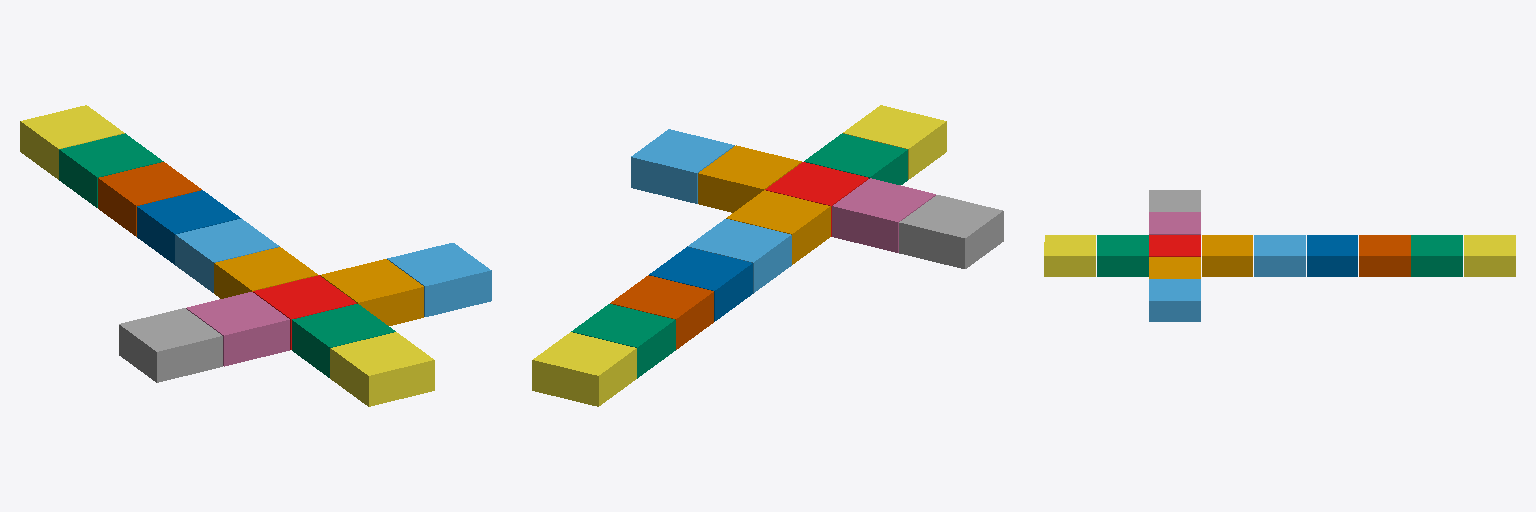
robot.urdf — rob:
<?xml version='1.0' encoding='UTF-8'?>
<robot name="rob">
  <link name="set1_arm1">
    <inertial>
      <origin xyz="0.0 0.34 0.0" rpy="0.0 0.0 0.0"/>
      <mass value="1.0"/>
      <inertia ixx="0.0" ixy="0.0" ixz="0.0" iyy="0.0" iyz="0.0" izz="0.0"/>
    </inertial>
    <visual>
      <geometry>
        <box size="0.67 0.67 0.3 "/>
      </geometry>
      <origin xyz="0.0 0.34 0.0" rpy="0.0 0.0 0.0"/>
    </visual>
    <collision>
      <geometry>
        <box size="0.67 0.67 0.3 "/>
      </geometry>
      <origin xyz="0.0 0.34 0.0" rpy="0.0 0.0 0.0"/>
    </collision>
  </link>
  <link name="set1_arm2">
    <inertial>
      <origin xyz="0.0 0.34 0.0" rpy="0.0 0.0 0.0"/>
      <mass value="1.0"/>
      <inertia ixx="0.0" ixy="0.0" ixz="0.0" iyy="0.0" iyz="0.0" izz="0.0"/>
    </inertial>
    <visual>
      <geometry>
        <box size="0.67 0.67 0.3 "/>
      </geometry>
      <origin xyz="0.0 0.34 0.0" rpy="0.0 0.0 0.0"/>
    </visual>
    <collision>
      <geometry>
        <box size="0.67 0.67 0.3 "/>
      </geometry>
      <origin xyz="0.0 0.34 0.0" rpy="0.0 0.0 0.0"/>
    </collision>
  </link>
  <link name="set2_arm1">
    <inertial>
      <origin xyz="0.0 0.34 0.0" rpy="0.0 0.0 0.0"/>
      <mass value="1.0"/>
      <inertia ixx="0.0" ixy="0.0" ixz="0.0" iyy="0.0" iyz="0.0" izz="0.0"/>
    </inertial>
    <visual>
      <geometry>
        <box size="0.67 0.67 0.3 "/>
      </geometry>
      <origin xyz="0.0 0.34 0.0" rpy="0.0 0.0 0.0"/>
    </visual>
    <collision>
      <geometry>
        <box size="0.67 0.67 0.3 "/>
      </geometry>
      <origin xyz="0.0 0.34 0.0" rpy="0.0 0.0 0.0"/>
    </collision>
  </link>
  <link name="set2_arm2">
    <inertial>
      <origin xyz="0.0 0.34 0.0" rpy="0.0 0.0 0.0"/>
      <mass value="1.0"/>
      <inertia ixx="0.0" ixy="0.0" ixz="0.0" iyy="0.0" iyz="0.0" izz="0.0"/>
    </inertial>
    <visual>
      <geometry>
        <box size="0.67 0.67 0.3 "/>
      </geometry>
      <origin xyz="0.0 0.34 0.0" rpy="0.0 0.0 0.0"/>
    </visual>
    <collision>
      <geometry>
        <box size="0.67 0.67 0.3 "/>
      </geometry>
      <origin xyz="0.0 0.34 0.0" rpy="0.0 0.0 0.0"/>
    </collision>
  </link>
  <link name="set3_arm1">
    <inertial>
      <origin xyz="0.0 0.34 0.0" rpy="0.0 0.0 0.0"/>
      <mass value="1.0"/>
      <inertia ixx="0.0" ixy="0.0" ixz="0.0" iyy="0.0" iyz="0.0" izz="0.0"/>
    </inertial>
    <visual>
      <geometry>
        <box size="0.67 0.67 0.3 "/>
      </geometry>
      <origin xyz="0.0 0.34 0.0" rpy="0.0 0.0 0.0"/>
    </visual>
    <collision>
      <geometry>
        <box size="0.67 0.67 0.3 "/>
      </geometry>
      <origin xyz="0.0 0.34 0.0" rpy="0.0 0.0 0.0"/>
    </collision>
  </link>
  <link name="set3_arm2">
    <inertial>
      <origin xyz="0.0 0.34 0.0" rpy="0.0 0.0 0.0"/>
      <mass value="1.0"/>
      <inertia ixx="0.0" ixy="0.0" ixz="0.0" iyy="0.0" iyz="0.0" izz="0.0"/>
    </inertial>
    <visual>
      <geometry>
        <box size="0.67 0.67 0.3 "/>
      </geometry>
      <origin xyz="0.0 0.34 0.0" rpy="0.0 0.0 0.0"/>
    </visual>
    <collision>
      <geometry>
        <box size="0.67 0.67 0.3 "/>
      </geometry>
      <origin xyz="0.0 0.34 0.0" rpy="0.0 0.0 0.0"/>
    </collision>
  </link>
  <link name="set4_arm1">
    <inertial>
      <origin xyz="0.0 0.34 0.0" rpy="0.0 0.0 0.0"/>
      <mass value="1.0"/>
      <inertia ixx="0.0" ixy="0.0" ixz="0.0" iyy="0.0" iyz="0.0" izz="0.0"/>
    </inertial>
    <visual>
      <geometry>
        <box size="0.67 0.67 0.3 "/>
      </geometry>
      <origin xyz="0.0 0.34 0.0" rpy="0.0 0.0 0.0"/>
    </visual>
    <collision>
      <geometry>
        <box size="0.67 0.67 0.3 "/>
      </geometry>
      <origin xyz="0.0 0.34 0.0" rpy="0.0 0.0 0.0"/>
    </collision>
  </link>
  <link name="set4_arm2">
    <inertial>
      <origin xyz="0.0 0.34 0.0" rpy="0.0 0.0 0.0"/>
      <mass value="1.0"/>
      <inertia ixx="0.0" ixy="0.0" ixz="0.0" iyy="0.0" iyz="0.0" izz="0.0"/>
    </inertial>
    <visual>
      <geometry>
        <box size="0.67 0.67 0.3 "/>
      </geometry>
      <origin xyz="0.0 0.34 0.0" rpy="0.0 0.0 0.0"/>
    </visual>
    <collision>
      <geometry>
        <box size="0.67 0.67 0.3 "/>
      </geometry>
      <origin xyz="0.0 0.34 0.0" rpy="0.0 0.0 0.0"/>
    </collision>
  </link>
  <link name="set5_arm1">
    <inertial>
      <origin xyz="0.0 0.34 0.0" rpy="0.0 0.0 0.0"/>
      <mass value="1.0"/>
      <inertia ixx="0.0" ixy="0.0" ixz="0.0" iyy="0.0" iyz="0.0" izz="0.0"/>
    </inertial>
    <visual>
      <geometry>
        <box size="0.67 0.67 0.3 "/>
      </geometry>
      <origin xyz="0.0 0.34 0.0" rpy="0.0 0.0 0.0"/>
    </visual>
    <collision>
      <geometry>
        <box size="0.67 0.67 0.3 "/>
      </geometry>
      <origin xyz="0.0 0.34 0.0" rpy="0.0 0.0 0.0"/>
    </collision>
  </link>
  <link name="set5_arm2">
    <inertial>
      <origin xyz="0.0 0.34 0.0" rpy="0.0 0.0 0.0"/>
      <mass value="1.0"/>
      <inertia ixx="0.0" ixy="0.0" ixz="0.0" iyy="0.0" iyz="0.0" izz="0.0"/>
    </inertial>
    <visual>
      <geometry>
        <box size="0.67 0.67 0.3 "/>
      </geometry>
      <origin xyz="0.0 0.34 0.0" rpy="0.0 0.0 0.0"/>
    </visual>
    <collision>
      <geometry>
        <box size="0.67 0.67 0.3 "/>
      </geometry>
      <origin xyz="0.0 0.34 0.0" rpy="0.0 0.0 0.0"/>
    </collision>
  </link>
  <link name="set6_arm1">
    <inertial>
      <origin xyz="0.0 0.34 0.0" rpy="0.0 0.0 0.0"/>
      <mass value="1.0"/>
      <inertia ixx="0.0" ixy="0.0" ixz="0.0" iyy="0.0" iyz="0.0" izz="0.0"/>
    </inertial>
    <visual>
      <geometry>
        <box size="0.67 0.67 0.3 "/>
      </geometry>
      <origin xyz="0.0 0.34 0.0" rpy="0.0 0.0 0.0"/>
    </visual>
    <collision>
      <geometry>
        <box size="0.67 0.67 0.3 "/>
      </geometry>
      <origin xyz="0.0 0.34 0.0" rpy="0.0 0.0 0.0"/>
    </collision>
  </link>
  <link name="set6_arm2">
    <inertial>
      <origin xyz="0.0 0.34 0.0" rpy="0.0 0.0 0.0"/>
      <mass value="1.0"/>
      <inertia ixx="0.0" ixy="0.0" ixz="0.0" iyy="0.0" iyz="0.0" izz="0.0"/>
    </inertial>
    <visual>
      <geometry>
        <box size="0.67 0.67 0.3 "/>
      </geometry>
      <origin xyz="0.0 0.34 0.0" rpy="0.0 0.0 0.0"/>
    </visual>
    <collision>
      <geometry>
        <box size="0.67 0.67 0.3 "/>
      </geometry>
      <origin xyz="0.0 0.34 0.0" rpy="0.0 0.0 0.0"/>
    </collision>
  </link>
  <link name="base_link">
    <inertial>
      <origin xyz="0.0 0.0 0.0" rpy="0.0 -0.0 0.0"/>
      <mass value="1.0"/>
      <inertia ixx="1.0" ixy="0.0" ixz="0.0" iyy="1.0" iyz="0.0" izz="1.0"/>
    </inertial>
    <visual>
      <geometry>
        <box size="0.67 0.67 0.3 "/>
      </geometry>
      <material name="red"/>
      <origin xyz="0.0 0.0 0.0" rpy="0.0 -0.0 0.0"/>
    </visual>
    <collision>
      <geometry>
        <box size="0.67 0.67 0.3 "/>
      </geometry>
      <origin xyz="0.0 0.0 0.0" rpy="0.0 0.0 0.0"/>
    </collision>
  </link>
  <joint name="set1_jointBase" type="fixed">
    <dynamics damping="0.0" friction="10.0"/>
    <limit effort="1.57" velocity="1.57" lower="-1.57" upper="1.57"/>
    <parent link="base_link"/>
    <child link="set1_arm1"/>
    <axis xyz="1. 0. 0."/>
    <origin xyz="0.0 0.34 0.0" rpy="0.0 0.0 0.0"/>
  </joint>
  <joint name="set1_joint1" type="revolute">
    <dynamics damping="0.0" friction="10.0"/>
    <limit effort="1.57" velocity="1.57" lower="-1.57" upper="1.57"/>
    <parent link="set1_arm1"/>
    <child link="set1_arm2"/>
    <axis xyz="1. 0. 0."/>
    <origin xyz="0.0 0.68 0.0" rpy="0.0 0.0 0.0"/>
  </joint>
  <joint name="set2_jointBase" type="fixed">
    <dynamics damping="0.0" friction="10.0"/>
    <limit effort="1.57" velocity="1.57" lower="-1.57" upper="1.57"/>
    <parent link="base_link"/>
    <child link="set2_arm1"/>
    <axis xyz="1. 0. 0."/>
    <origin xyz="0.0 -0.34 0.0" rpy="0.0 0.0 3.141"/>
  </joint>
  <joint name="set2_joint1" type="revolute">
    <dynamics damping="0.0" friction="10.0"/>
    <limit effort="1.57" velocity="1.57" lower="-1.57" upper="1.57"/>
    <parent link="set2_arm1"/>
    <child link="set2_arm2"/>
    <axis xyz="1. 0. 0."/>
    <origin xyz="0.0 0.68 0.0" rpy="0.0 0.0 0.0"/>
  </joint>
  <joint name="set3_jointBase" type="fixed">
    <dynamics damping="0.0" friction="10.0"/>
    <limit effort="1.57" velocity="1.57" lower="-1.57" upper="1.57"/>
    <parent link="set1_arm2"/>
    <child link="set3_arm1"/>
    <axis xyz="1. 0. 0."/>
    <origin xyz="0.0 0.68 0.0" rpy="0.0 0.0 0.0"/>
  </joint>
  <joint name="set3_joint1" type="revolute">
    <dynamics damping="0.0" friction="10.0"/>
    <limit effort="1.57" velocity="1.57" lower="-1.57" upper="1.57"/>
    <parent link="set3_arm1"/>
    <child link="set3_arm2"/>
    <axis xyz="1. 0. 0."/>
    <origin xyz="0.0 0.68 0.0" rpy="0.0 0.0 0.0"/>
  </joint>
  <joint name="set4_jointBase" type="fixed">
    <dynamics damping="0.0" friction="10.0"/>
    <limit effort="1.57" velocity="1.57" lower="-1.57" upper="1.57"/>
    <parent link="base_link"/>
    <child link="set4_arm1"/>
    <axis xyz="1. 0. 0."/>
    <origin xyz="-0.34 0.0 0.0" rpy="0.0 0.0 1.57"/>
  </joint>
  <joint name="set4_joint1" type="revolute">
    <dynamics damping="0.0" friction="10.0"/>
    <limit effort="1.57" velocity="1.57" lower="-1.57" upper="1.57"/>
    <parent link="set4_arm1"/>
    <child link="set4_arm2"/>
    <axis xyz="1. 0. 0."/>
    <origin xyz="0.0 0.68 0.0" rpy="0.0 0.0 0.0"/>
  </joint>
  <joint name="set5_jointBase" type="fixed">
    <dynamics damping="0.0" friction="10.0"/>
    <limit effort="1.57" velocity="1.57" lower="-1.57" upper="1.57"/>
    <parent link="base_link"/>
    <child link="set5_arm1"/>
    <axis xyz="1. 0. 0."/>
    <origin xyz="0.34 0.0 0.0" rpy="0.0 0.0 -1.57"/>
  </joint>
  <joint name="set5_joint1" type="revolute">
    <dynamics damping="0.0" friction="10.0"/>
    <limit effort="1.57" velocity="1.57" lower="-1.57" upper="1.57"/>
    <parent link="set5_arm1"/>
    <child link="set5_arm2"/>
    <axis xyz="1. 0. 0."/>
    <origin xyz="0.0 0.68 0.0" rpy="0.0 0.0 0.0"/>
  </joint>
  <joint name="set6_jointBase" type="fixed">
    <dynamics damping="0.0" friction="10.0"/>
    <limit effort="1.57" velocity="1.57" lower="-1.57" upper="1.57"/>
    <parent link="set3_arm2"/>
    <child link="set6_arm1"/>
    <axis xyz="1. 0. 0."/>
    <origin xyz="0.0 0.68 0.0" rpy="0.0 0.0 0.0"/>
  </joint>
  <joint name="set6_joint1" type="revolute">
    <dynamics damping="0.0" friction="10.0"/>
    <limit effort="1.57" velocity="1.57" lower="-1.57" upper="1.57"/>
    <parent link="set6_arm1"/>
    <child link="set6_arm2"/>
    <axis xyz="1. 0. 0."/>
    <origin xyz="0.0 0.68 0.0" rpy="0.0 0.0 0.0"/>
  </joint>
  <material name="red">
    <color rgba="0.969 0.129 0.122 1.   "/>
  </material>
</robot>

--- What the picture shows (computed from the rendered views, not written in the file) ---
The picture shows the robot from 3 angles, left to right: view 1: azimuth 30°, elevation 25°; view 2: azimuth 150°, elevation 25°; view 3: azimuth 270°, elevation 25°; orthographic projection.
Model rob with 13 links and 12 joints (6 revolute, 6 fixed), rooted at base_link, posed every joint at zero.
Visible links, largest first — view 1: set2_arm2, set4_arm2, set5_arm2, set4_arm1, set5_arm1, set6_arm1, set1_arm2, set3_arm2, set6_arm2, set2_arm1, set3_arm1, set1_arm1 (+1 smaller); view 2: set6_arm2, set4_arm2, set5_arm2, set4_arm1, set5_arm1, set1_arm1, set6_arm1, set1_arm2, set2_arm2, set3_arm1, set3_arm2, set2_arm1 (+1 smaller); view 3: set5_arm2, set1_arm2, set2_arm1, set3_arm2, set6_arm1, set6_arm2, set2_arm2, set1_arm1, set3_arm1, set4_arm1, set4_arm2, set5_arm1 (+1 smaller).
Boxes of the visible links, bbox=[...] form: set2_arm2: bbox=[330, 332, 434, 406]; set4_arm2: bbox=[119, 308, 222, 382]; set5_arm2: bbox=[387, 243, 491, 316]; set4_arm1: bbox=[186, 292, 289, 366]; set5_arm1: bbox=[320, 259, 423, 325]; set6_arm1: bbox=[59, 133, 163, 207]; set1_arm2: bbox=[175, 218, 279, 292]; set3_arm2: bbox=[98, 162, 201, 236]; set6_arm2: bbox=[20, 105, 124, 179]; set2_arm1: bbox=[292, 304, 395, 377]; set3_arm1: bbox=[137, 190, 240, 264]; set1_arm1: bbox=[214, 247, 317, 298]; set6_arm2: bbox=[532, 332, 636, 406]; set4_arm2: bbox=[899, 195, 1003, 268]; set5_arm2: bbox=[631, 129, 734, 203]; set4_arm1: bbox=[832, 178, 935, 252]; set5_arm1: bbox=[698, 145, 801, 212]; set1_arm1: bbox=[726, 190, 830, 264]; set6_arm1: bbox=[571, 304, 675, 378]; set1_arm2: bbox=[687, 219, 791, 293]; set2_arm2: bbox=[843, 105, 946, 179]; set3_arm1: bbox=[649, 247, 752, 321]; set3_arm2: bbox=[610, 275, 713, 349]; set2_arm1: bbox=[804, 133, 907, 184]; set5_arm2: bbox=[1149, 279, 1200, 321]; set1_arm2: bbox=[1254, 235, 1305, 276]; set2_arm1: bbox=[1097, 235, 1148, 276]; set3_arm2: bbox=[1359, 235, 1410, 276]; set6_arm1: bbox=[1411, 235, 1462, 276]; set6_arm2: bbox=[1464, 235, 1515, 276]; set2_arm2: bbox=[1044, 235, 1095, 276]; set1_arm1: bbox=[1202, 235, 1252, 276]; set3_arm1: bbox=[1307, 235, 1357, 276]; set4_arm1: bbox=[1149, 212, 1200, 234]; set4_arm2: bbox=[1149, 190, 1200, 211]; set5_arm1: bbox=[1149, 257, 1200, 278].
Size in the robot's own frame: 3.39 by 6.11 by 0.3 metres.
Geometry: primitives only (box / cylinder / sphere), no mesh files.
